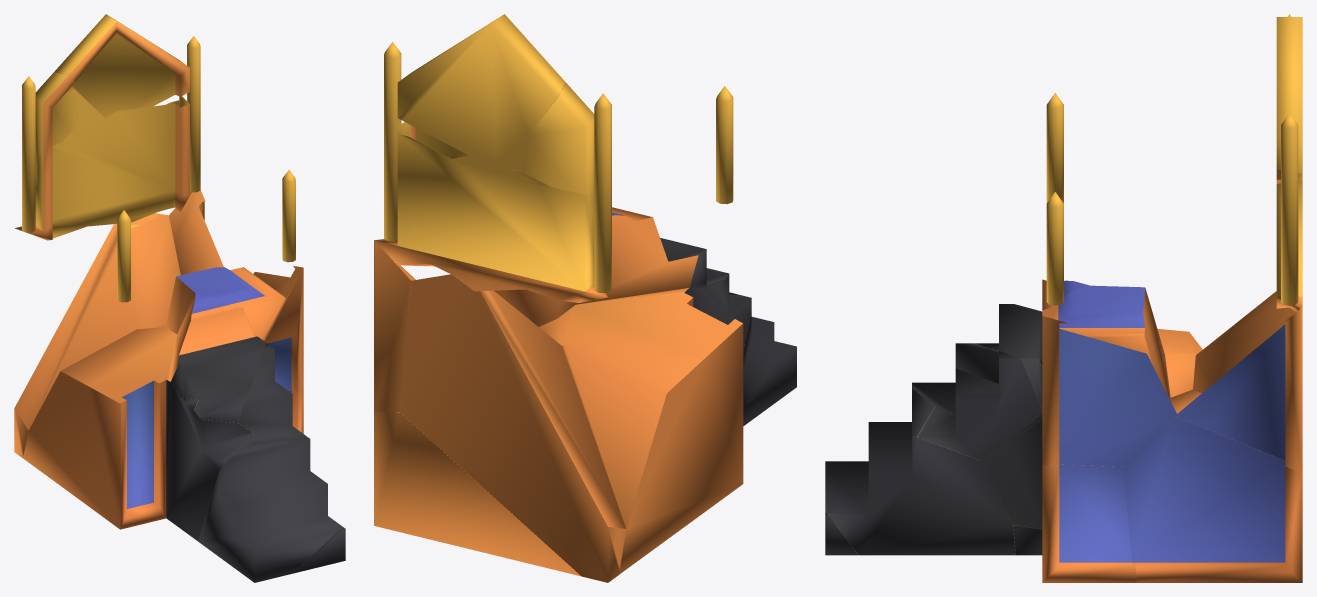
Rendered from throne-pieces.glb.
3 renders of one model, left to right at view 1: azimuth 30°, elevation 25°; view 2: azimuth 150°, elevation 25°; view 3: azimuth 270°, elevation 25°, orthographic. The views are drawn at different scales.
Visible parts, largest first — view 1: Cube_cell.016, Cube, Cube_cell.001, Cube_cell.005, Cube_cell.002, Cube_cell.008, Cube_cell.015, Cube_cell.013, Cube_cell.018, Cube_cell.003, Cube_cell, Cube.002 (+6 smaller); view 2: Cube_cell.005, Cube_cell.016, Cube, Cube_cell.008, Cube_cell.014, Cube_cell.002, Cube_cell.003, Cube_cell, Cube_cell.001, Cube.002, Cube.004, Cube.003 (+2 smaller); view 3: Cube_cell.014, Cube_cell.001, Cube_cell.013, Cube_cell.019, Cube_cell, Cube_cell.016, Cube_cell.018, Cube_cell.015, Cube_cell.002, Cube_cell.005, Cube.004, Cube_cell.008 (+4 smaller).
Part boxes in pixels (x1,y1,x2,y2): Cube_cell.016: [23, 327, 255, 541]; Cube: [15, 96, 191, 240]; Cube_cell.001: [198, 437, 343, 582]; Cube_cell.005: [14, 213, 180, 457]; Cube_cell.002: [170, 293, 265, 422]; Cube_cell.008: [54, 14, 189, 124]; Cube_cell.015: [166, 267, 285, 339]; Cube_cell.013: [253, 266, 303, 392]; Cube_cell.018: [238, 343, 307, 444]; Cube_cell.003: [35, 72, 79, 172]; Cube_cell: [169, 190, 223, 275]; Cube.002: [22, 76, 35, 232]; Cube_cell.005: [399, 274, 626, 582]; Cube_cell.016: [539, 278, 751, 574]; Cube: [375, 122, 607, 302]; Cube_cell.008: [397, 14, 564, 164]; Cube_cell.014: [374, 412, 581, 576]; Cube_cell.002: [575, 207, 729, 304]; Cube_cell.003: [524, 82, 594, 205]; Cube_cell: [374, 240, 415, 411]; Cube_cell.001: [729, 292, 796, 425]; Cube.002: [594, 93, 611, 293]; Cube.004: [384, 42, 401, 241]; Cube.003: [716, 86, 733, 203]; Cube_cell.014: [1123, 389, 1302, 582]; Cube_cell.001: [825, 388, 1015, 555]; Cube_cell.013: [1042, 316, 1176, 466]; Cube_cell.019: [1013, 464, 1136, 582]; Cube_cell: [1177, 307, 1302, 472]; Cube_cell.016: [912, 329, 1202, 529]; Cube_cell.018: [917, 351, 1042, 460]; Cube_cell.015: [1038, 285, 1170, 399]; Cube_cell.002: [955, 279, 1089, 408]; Cube_cell.005: [1193, 291, 1295, 393]; Cube.004: [1281, 113, 1298, 305]; Cube_cell.008: [1276, 17, 1302, 173].
Size of the model in its own units: 6 by 13 by 11.
Materials: 1 (1 with a texture image).
